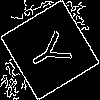Y: (25, 24, 81, 77)
